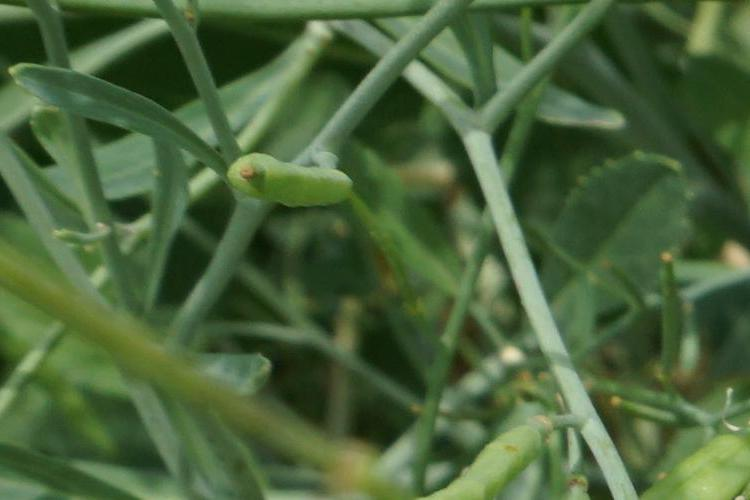pod: (209, 139, 380, 214)
